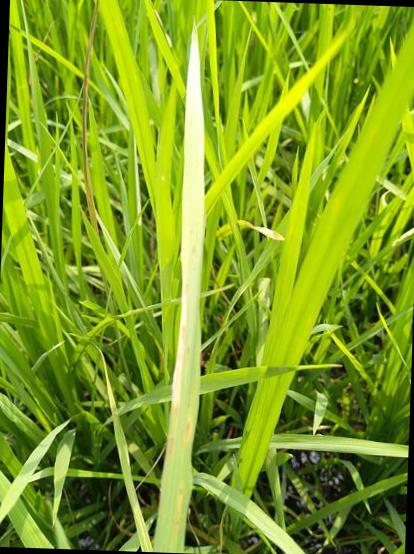Leaf Blight: (156, 31, 206, 527)
